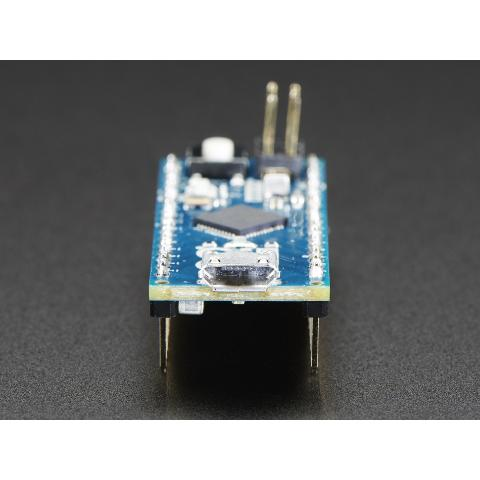Arduino-Micro: (140, 77, 338, 381)
